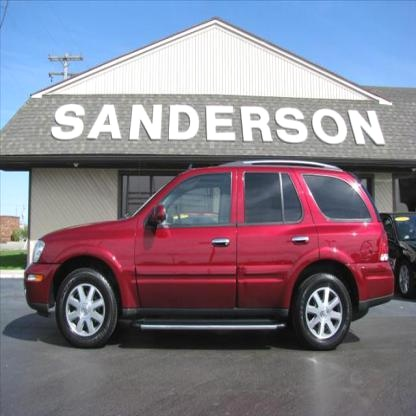Vehicle: (24, 156, 398, 353)
